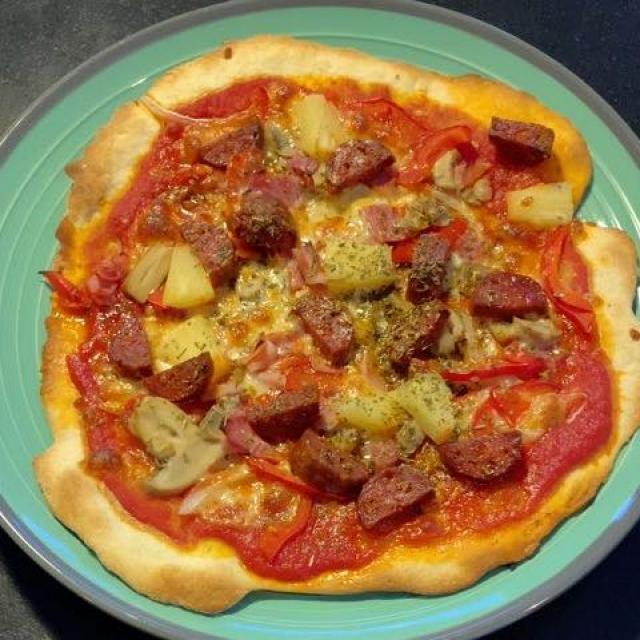pineapple: (119, 81, 583, 448)
pizza: (45, 46, 631, 595)
sausage: (98, 108, 561, 509)
